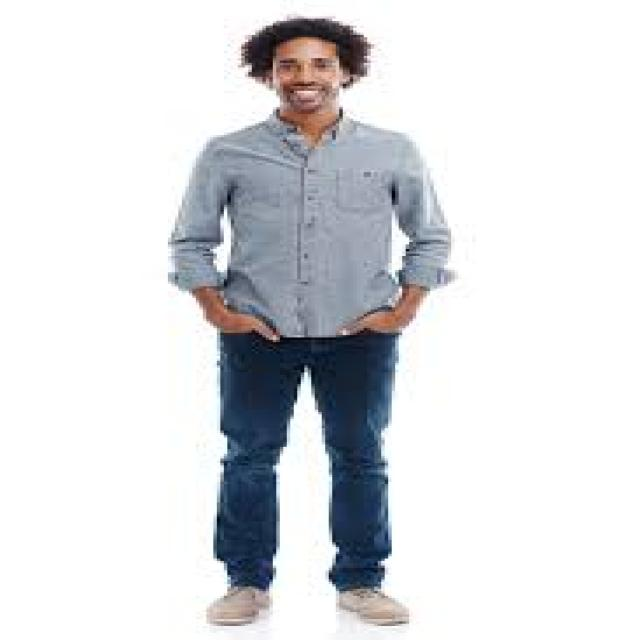standing: (156, 15, 465, 630)
